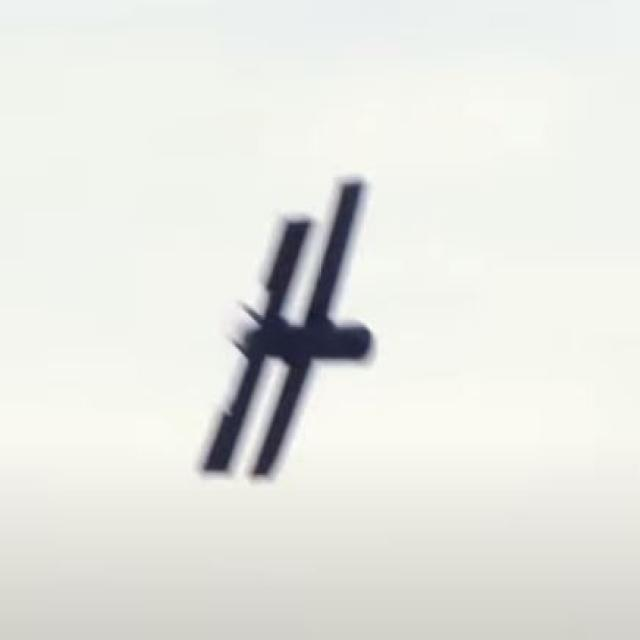iha: (194, 166, 382, 475)
